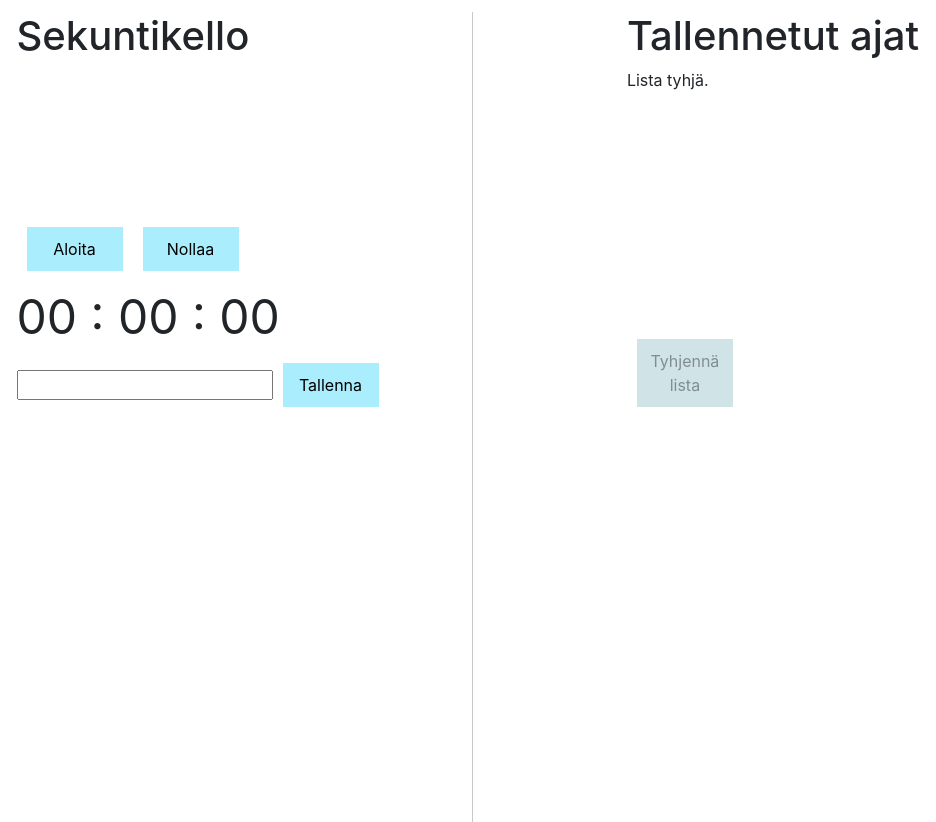
list says empty message only when empty
Expected: the element with test id "list" is shown, left=627, top=12, right=919, bottom=108
Expected: the element with test id "list" shows "Lista tyhjä", left=627, top=70, right=709, bottom=90
Type "sanax" into the field with test id "input".
click(144, 385); type("sanax")  # box left=16, top=370, right=272, bottom=400
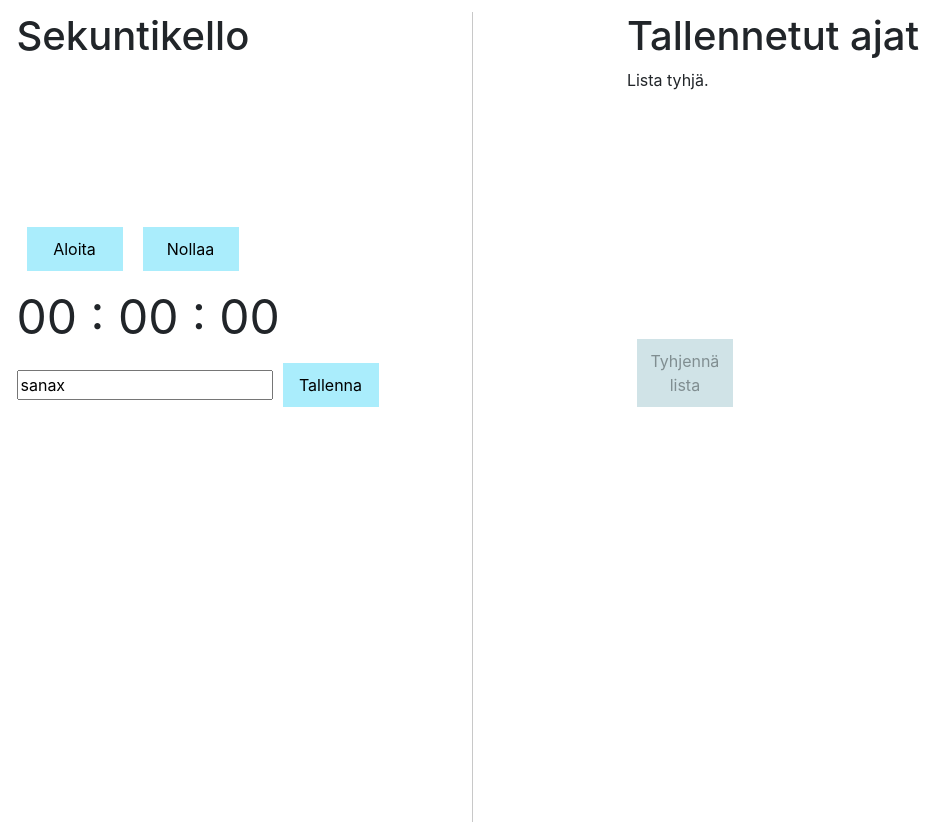
Click the button "Tallenna".
click(330, 385)  # box left=282, top=363, right=378, bottom=407
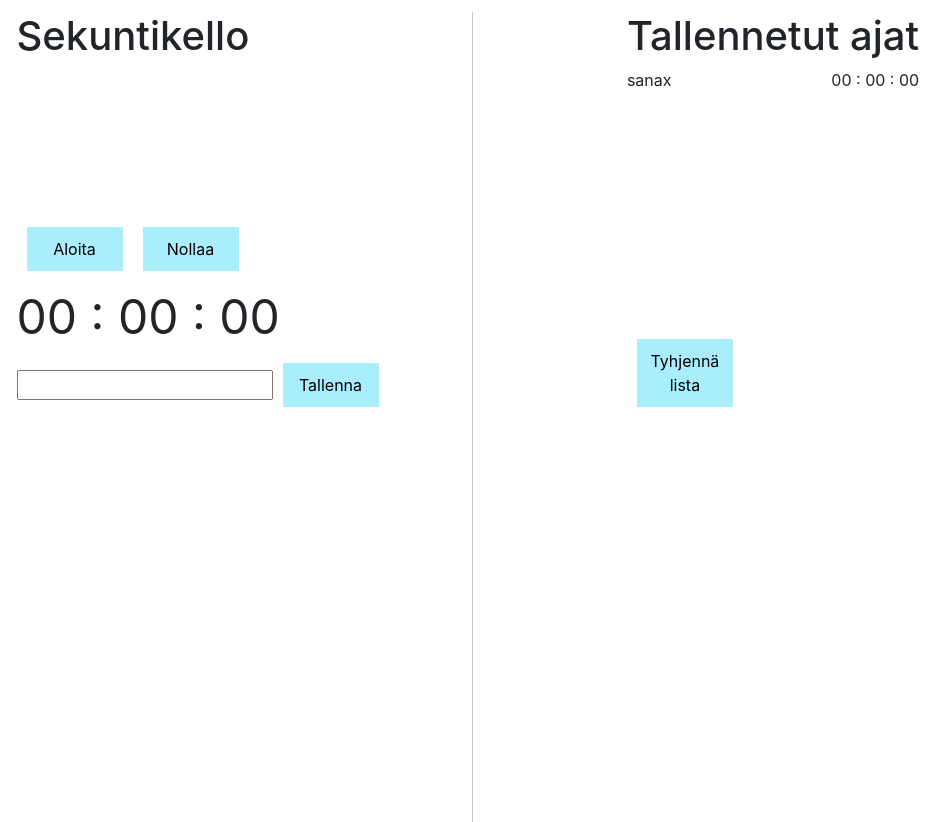
Expected: the element with test id "list" no longer shows "Lista tyhjä", left=627, top=12, right=919, bottom=92
Click the button "Tyhjennä lista".
click(685, 373)  # box left=637, top=339, right=733, bottom=407
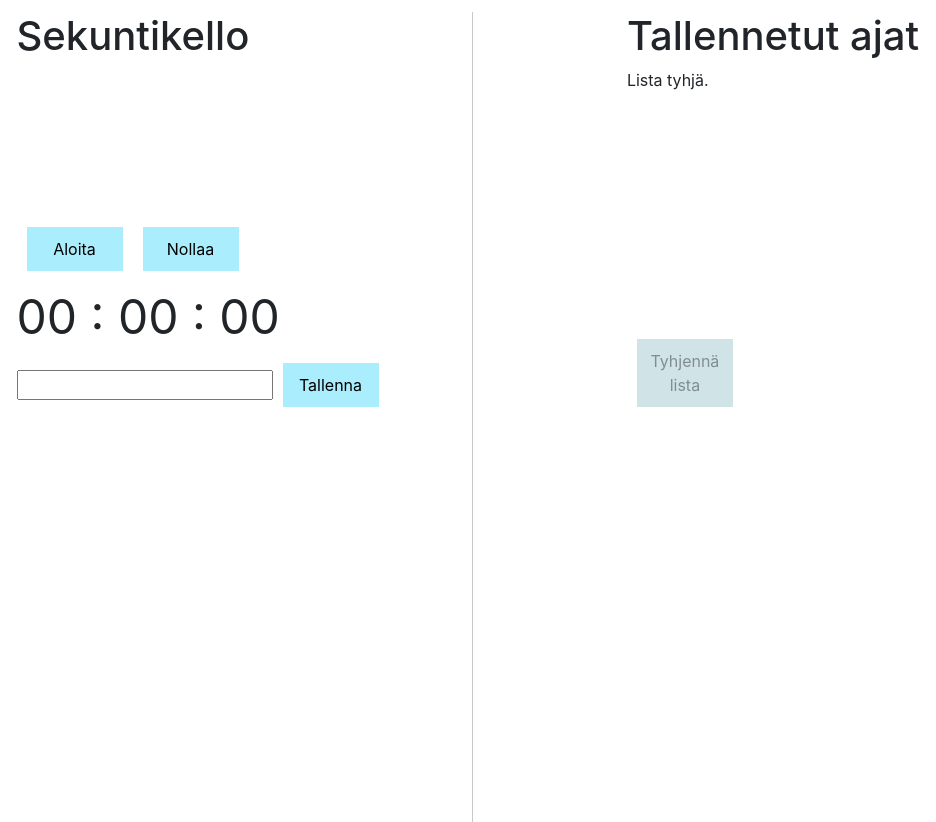
Expected: the element with test id "list" shows "Lista tyhjä", left=627, top=70, right=709, bottom=90
